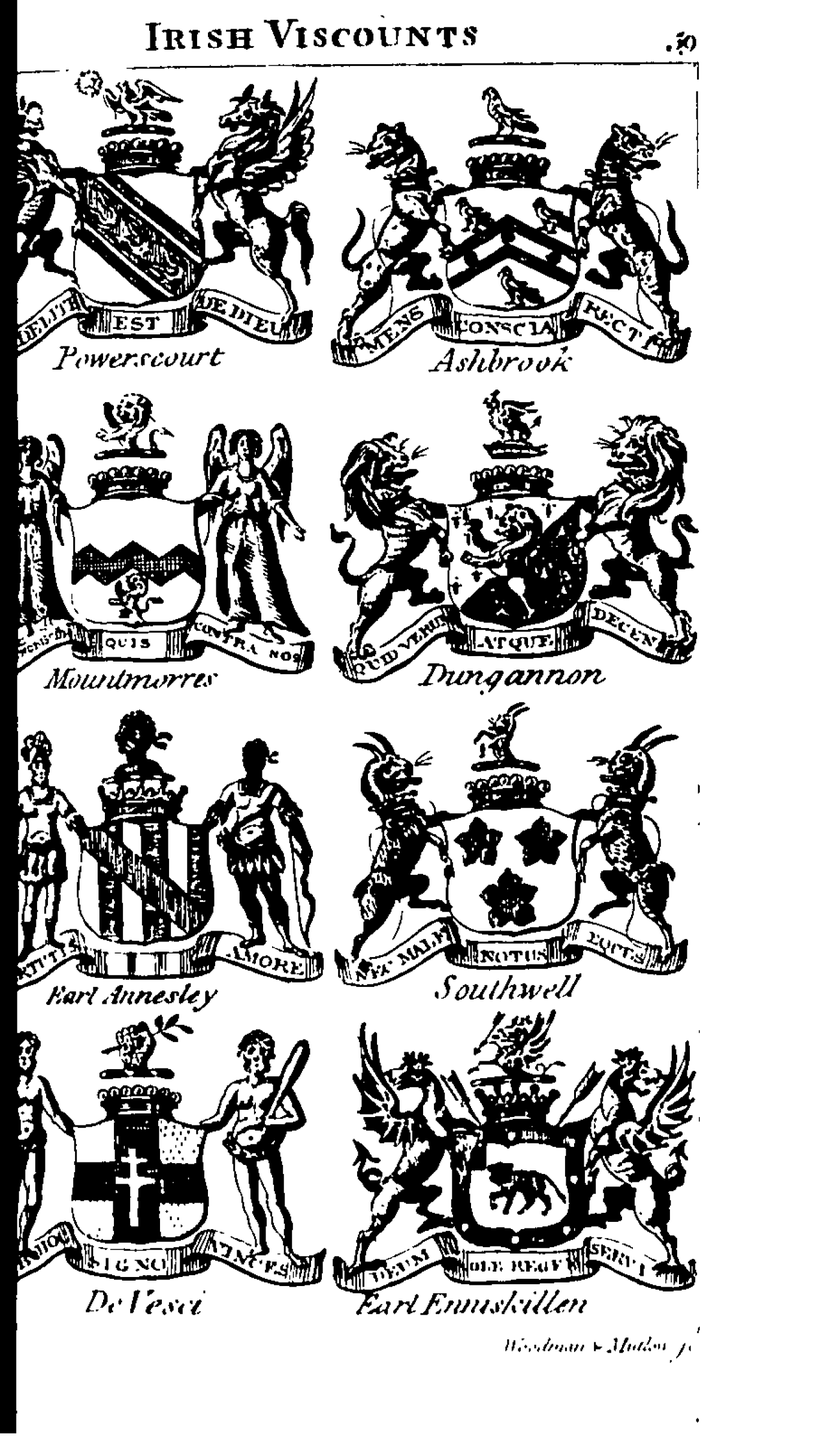coat_of_arms: (334, 1013, 718, 1333), (331, 74, 691, 385), (331, 393, 702, 692), (339, 713, 695, 1010), (8, 1006, 324, 1323), (9, 69, 318, 387), (14, 391, 322, 699), (13, 704, 323, 1006)
